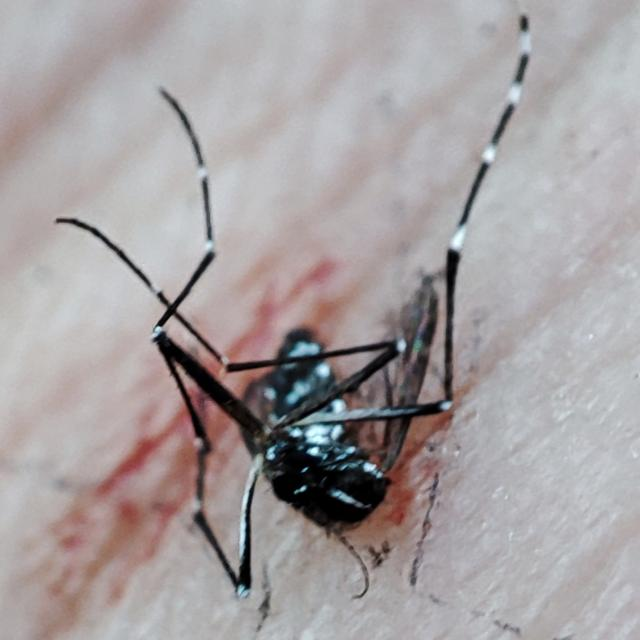albopictus: (28, 68, 490, 628)
